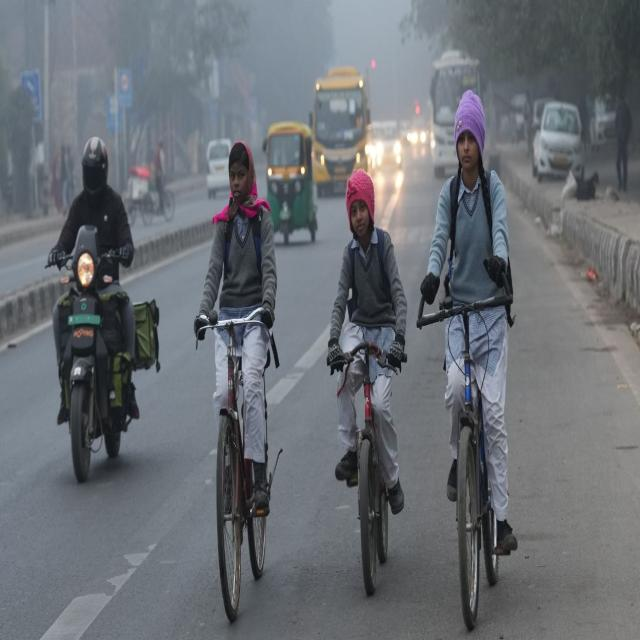no-low traffic: (102, 32, 536, 601)
